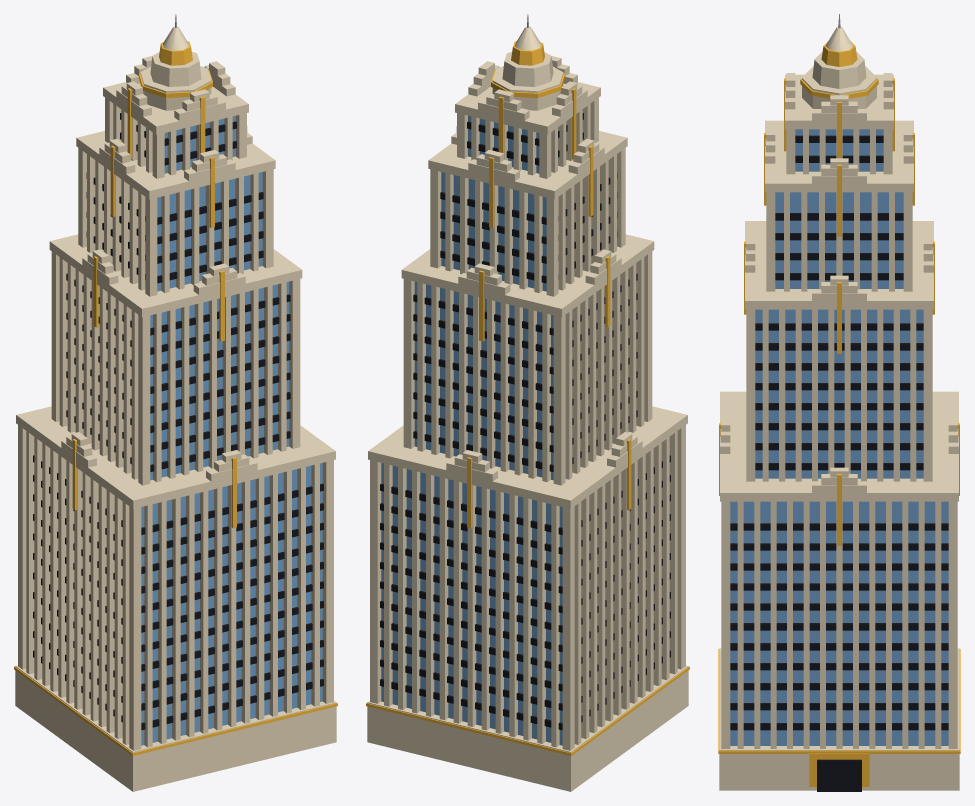
The model's file is Skyline_Deco.fbx.
3 renders of one model, left to right at view 1: azimuth 30°, elevation 25°; view 2: azimuth 150°, elevation 25°; view 3: azimuth 270°, elevation 25°, orthographic. The views are drawn at different scales.
Visible parts, largest first — view 1: Cream, Window.002, Dark.002, Gold; view 2: Cream, Window.002, Dark.002, Gold; view 3: Cream, Window.002, Dark.002, Gold.
Part boxes in pixels (x1,y1,x2,y2): Cream: (15,26,336,791); Window.002: (141,115,322,745); Dark.002: (33,113,323,730); Gold: (14,41,337,755); Cream: (367,26,688,791); Window.002: (381,115,562,745); Dark.002: (380,113,670,730); Gold: (366,41,689,755); Cream: (719,27,959,790); Window.002: (730,129,948,745); Dark.002: (730,135,948,791); Gold: (718,41,960,786).
Size of the model in its own units: 48.8 by 160 by 48.4.
